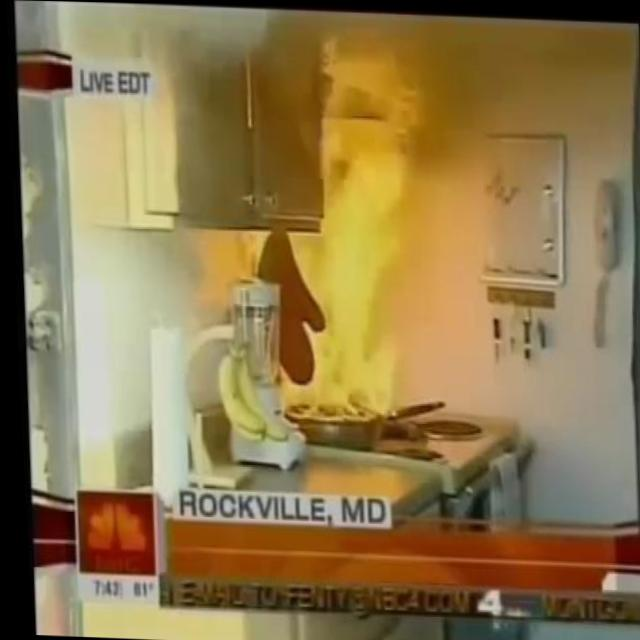fire: (232, 23, 440, 419)
